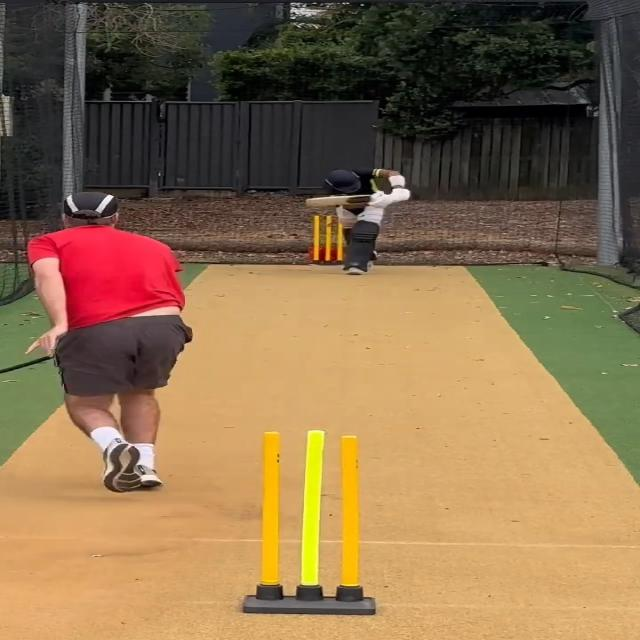stump: (242, 430, 378, 614), (313, 215, 344, 265)
